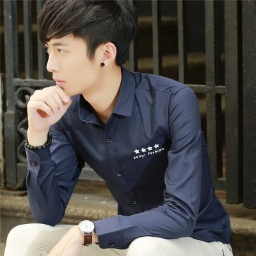face: (38, 1, 133, 97)
